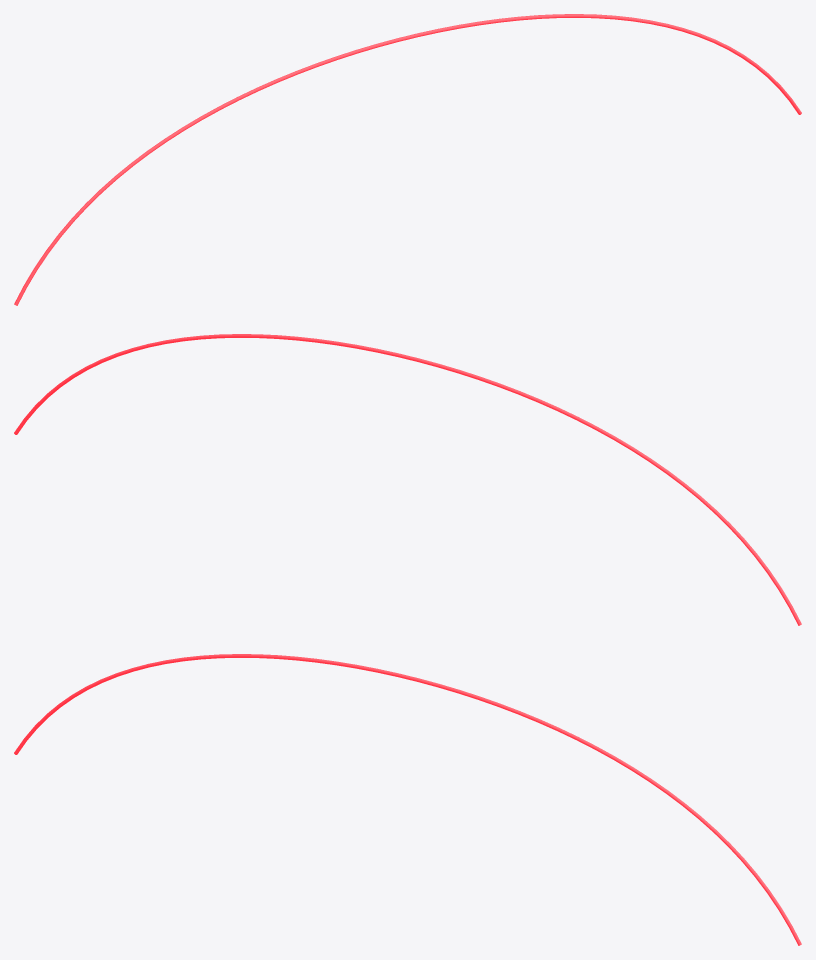
The model's file is Arc.fbx.
3 views of the same model, one above another, from view 1: azimuth 30°, elevation 25°; view 2: azimuth 150°, elevation 25°; view 3: azimuth 330°, elevation 25° (orthographic).
Parts seen in each view (by area): view 1: NurbsPath; view 2: NurbsPath; view 3: NurbsPath.
Boxes of the visible parts, x1=… form: NurbsPath: x1=14, y1=14, x2=801, y2=305; NurbsPath: x1=14, y1=334, x2=801, y2=625; NurbsPath: x1=14, y1=654, x2=801, y2=945.
Bounding box in the file's own units: 8445 × 1787 × 36.
